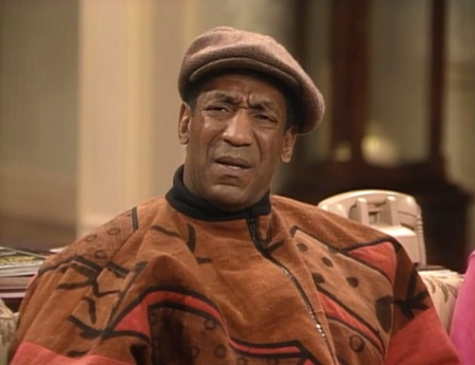confused: (188, 82, 284, 201)
